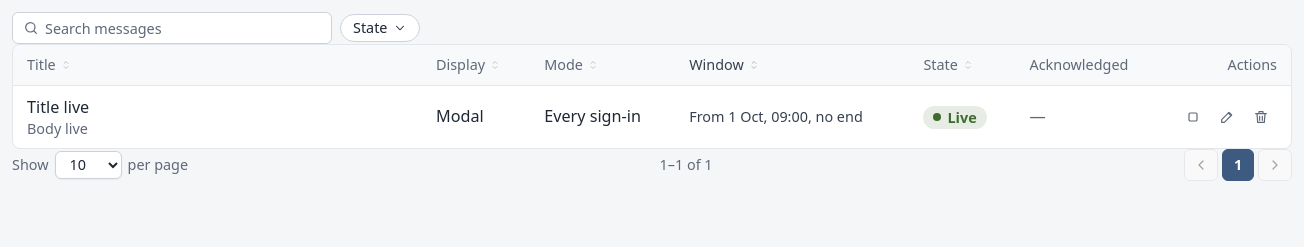
Test: row actions › shows the refusal beside the list when End now fails
Click the button named "End now".
click(1193, 117)  # box [1177, 101, 1209, 133]
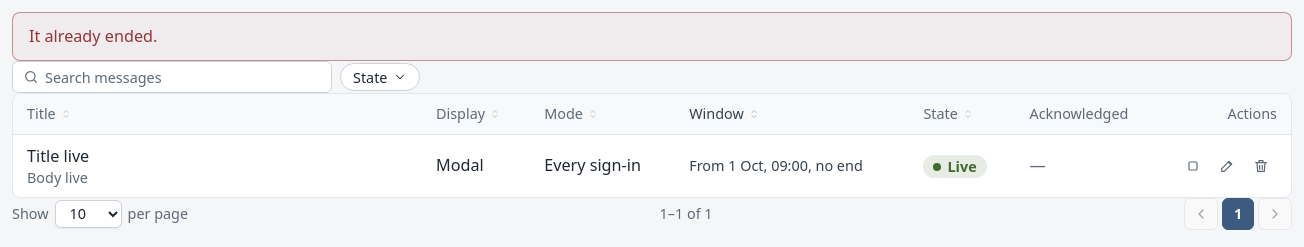
expect the message "It already ended." is shown: met, box [12, 12, 1292, 61]
expect the text "It already ended." is shown: met, box [29, 25, 157, 47]
